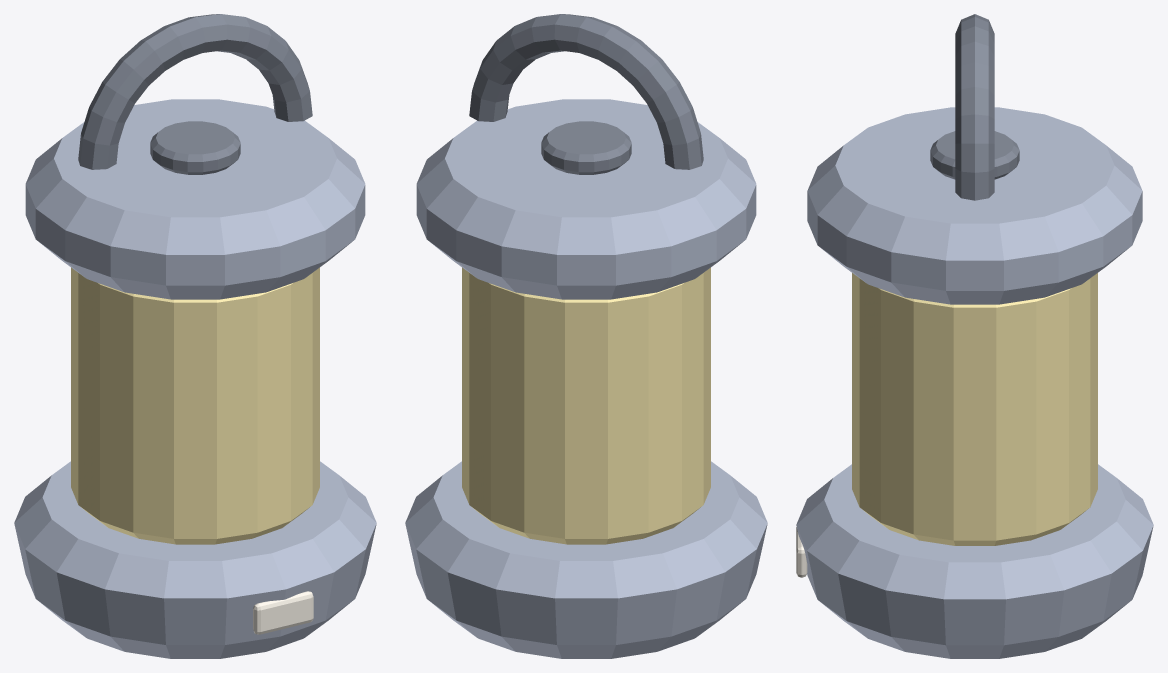
Rendered from lamp.glb.
3 views of the same model, side by side, from view 1: azimuth 30°, elevation 25°; view 2: azimuth 150°, elevation 25°; view 3: azimuth 270°, elevation 25° (orthographic).
Visible parts, largest first — view 1: lamp; view 2: lamp; view 3: lamp.
Boxes of the visible parts, x1,y1,x2,y2 form: lamp: (14, 14, 376, 658); lamp: (405, 14, 767, 658); lamp: (796, 14, 1153, 658).
Bounding box in the file's own units: 0.6303 × 1.13 × 0.64.
